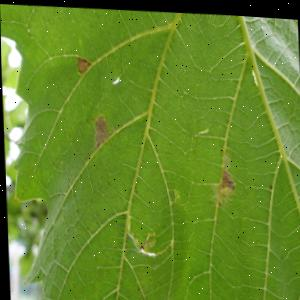Folha: (0, 0, 300, 300)
Fungo: (209, 161, 235, 203), (90, 111, 109, 147), (218, 162, 233, 187), (75, 53, 89, 72), (141, 227, 153, 245), (219, 144, 229, 164), (137, 241, 142, 249), (267, 178, 270, 183), (215, 197, 218, 201), (219, 143, 221, 147), (77, 37, 79, 41)
